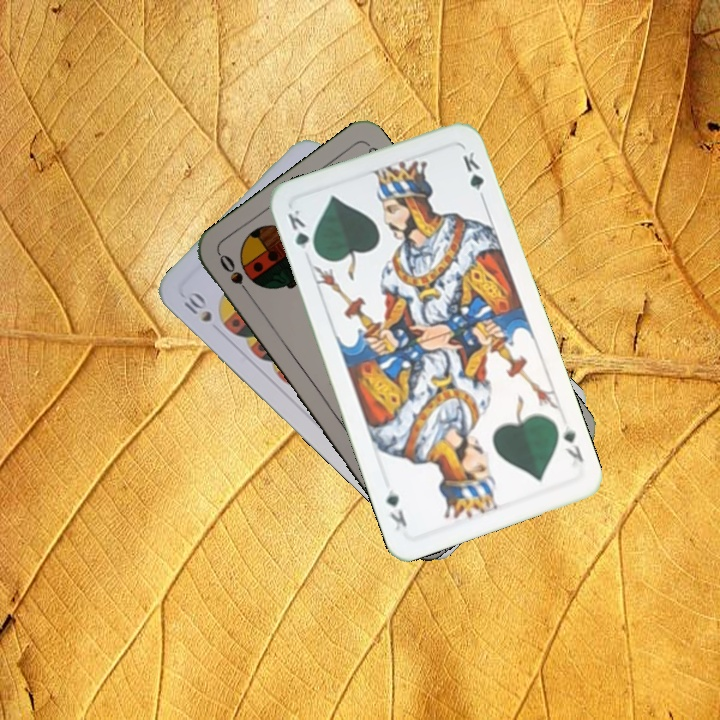GK: (283, 205, 320, 259), (559, 421, 586, 465)
S10: (179, 287, 215, 325)
SO: (215, 250, 256, 302)
